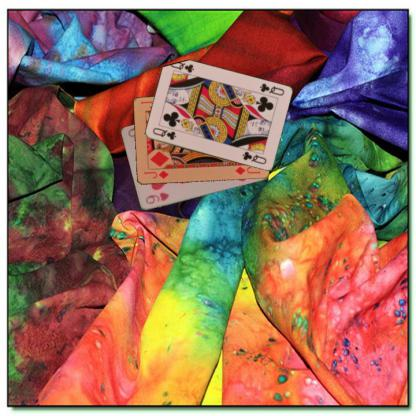9h: (143, 190, 170, 206)
Jd: (141, 168, 170, 180)
Qc: (256, 81, 286, 97), (150, 125, 176, 141)
